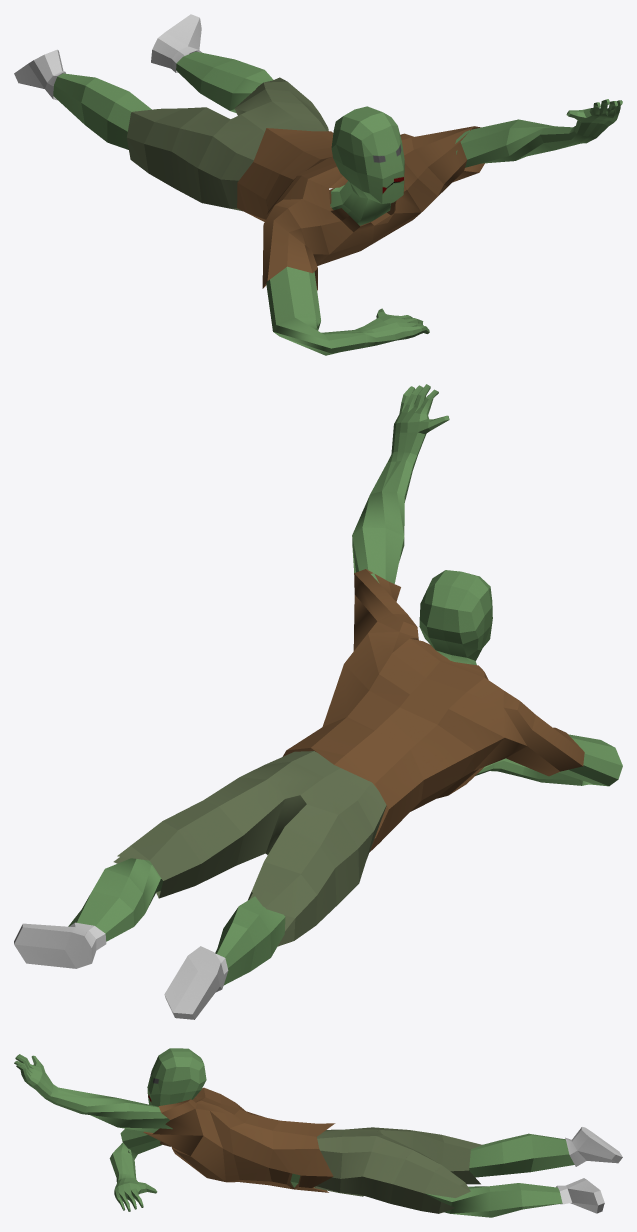
Rendered from ZombieCrawl(107).obj.
The picture shows the model from 3 angles, top to bottom: view 1: azimuth 30°, elevation 25°; view 2: azimuth 150°, elevation 25°; view 3: azimuth 270°, elevation 25°; orthographic projection. The views are drawn at different scales.
Visible parts, largest first — view 1: Object001; view 2: Object001; view 3: Object001.
Boxes of the visible parts, box(x1,y1,x2,y2) form: Object001: box(14, 14, 622, 355); Object001: box(14, 384, 622, 1019); Object001: box(14, 1048, 622, 1217).
Bounding box in the file's own units: 28.44 × 26.28 × 74.11.
